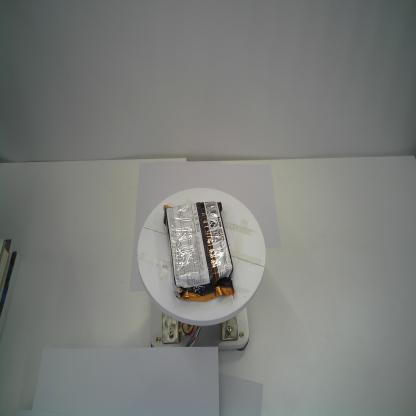Dessert: (162, 199, 238, 304)
